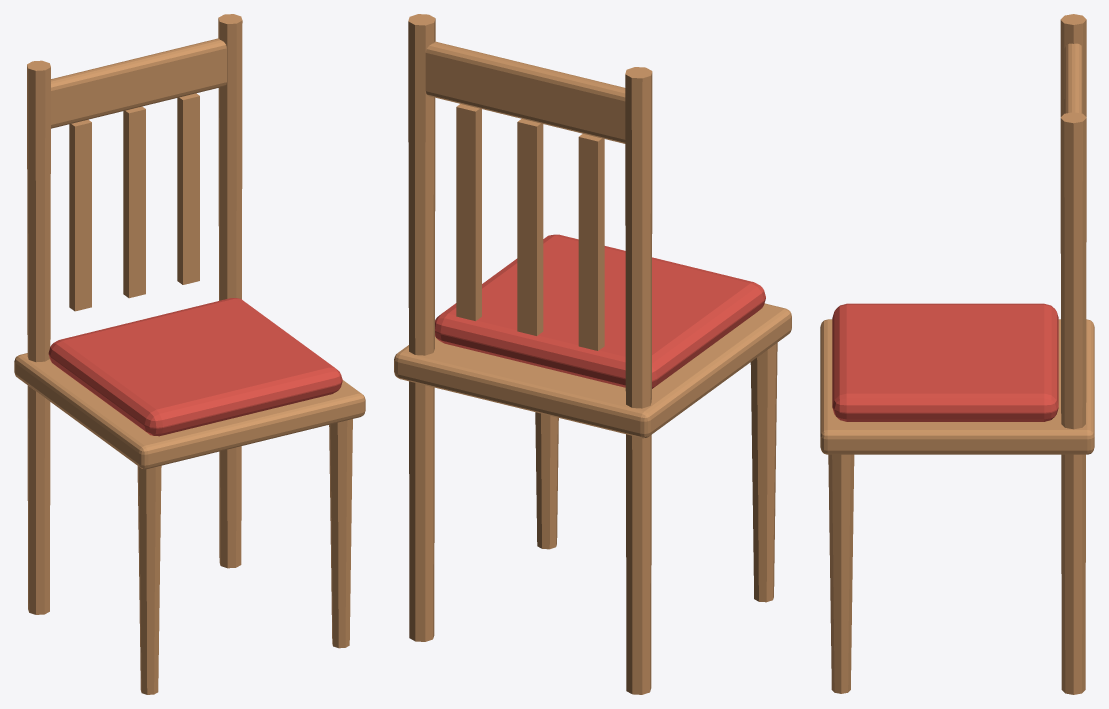
Rendered from chair.glb.
3 views of the same model, side by side, from view 1: azimuth 30°, elevation 25°; view 2: azimuth 150°, elevation 25°; view 3: azimuth 270°, elevation 25° (orthographic). The views are drawn at different scales.
Visible parts, largest first — view 1: chair; view 2: chair; view 3: chair.
Boxes of the visible parts, left/top/right/bottom form: chair: left=14, top=14, right=365, bottom=694; chair: left=394, top=14, right=791, bottom=694; chair: left=820, top=14, right=1094, bottom=694.
Bounding box in the file's own units: 0.46 × 1.06 × 0.46.
